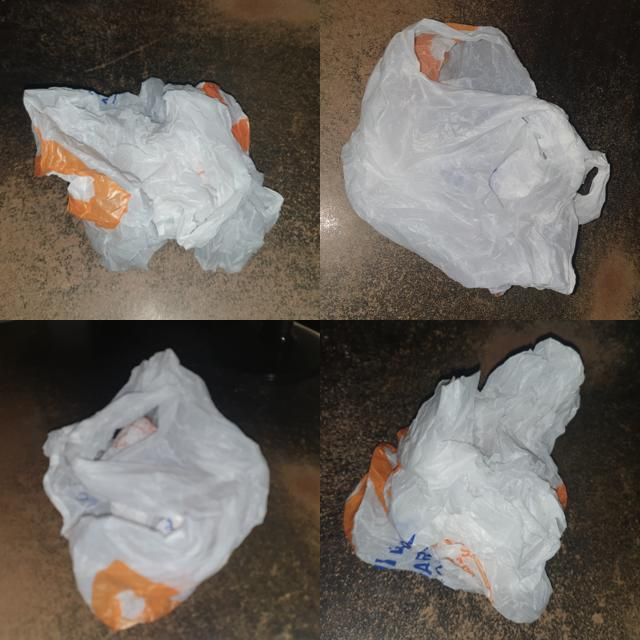Single-layer Plastic: (341, 19, 610, 295), (344, 339, 584, 622), (44, 349, 269, 630), (24, 78, 282, 272)
